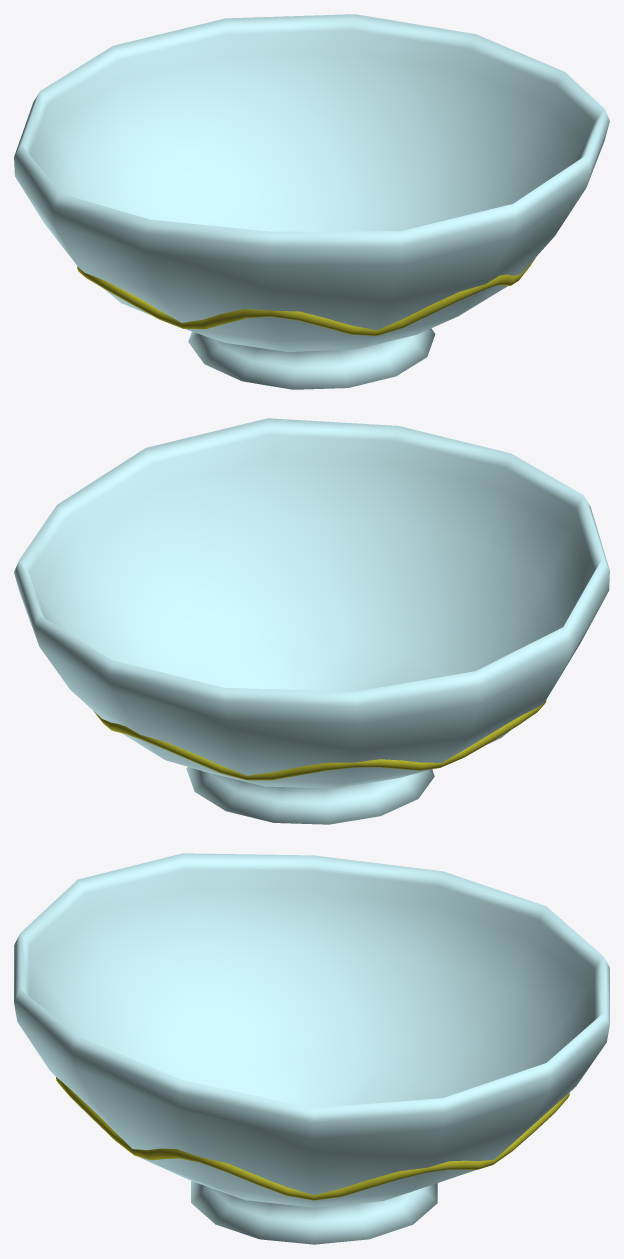
Rendered from Props_Bowl02.fbx.
3 views of the same model, one above another, from view 1: azimuth 30°, elevation 25°; view 2: azimuth 150°, elevation 25°; view 3: azimuth 270°, elevation 25° (orthographic). The views are drawn at different scales.
Parts seen in each view (by area): view 1: Bowl.001; view 2: Bowl.001; view 3: Bowl.001.
Part boxes in pixels (x1,y1,x2,y2): Bowl.001: [14, 14, 609, 389]; Bowl.001: [14, 418, 609, 824]; Bowl.001: [14, 853, 609, 1244].
Size of the model in its own units: 0.5031 by 0.4939 by 0.2138.
